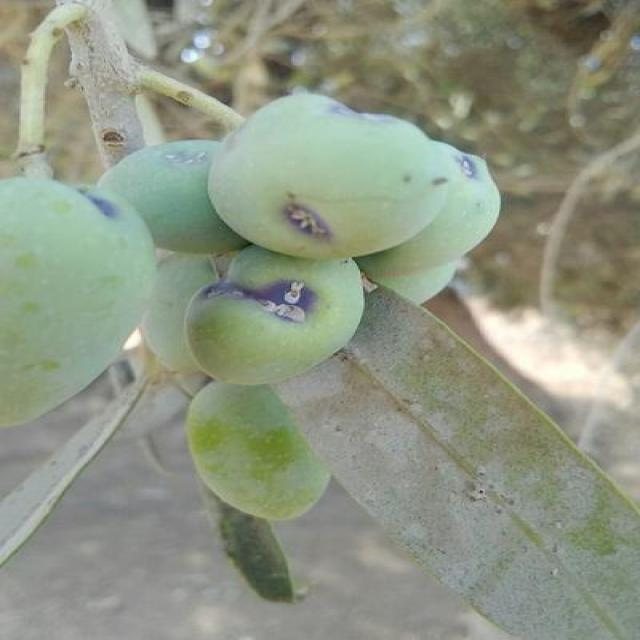Olive Fruit Fly: (210, 92, 461, 258), (189, 246, 363, 384)
